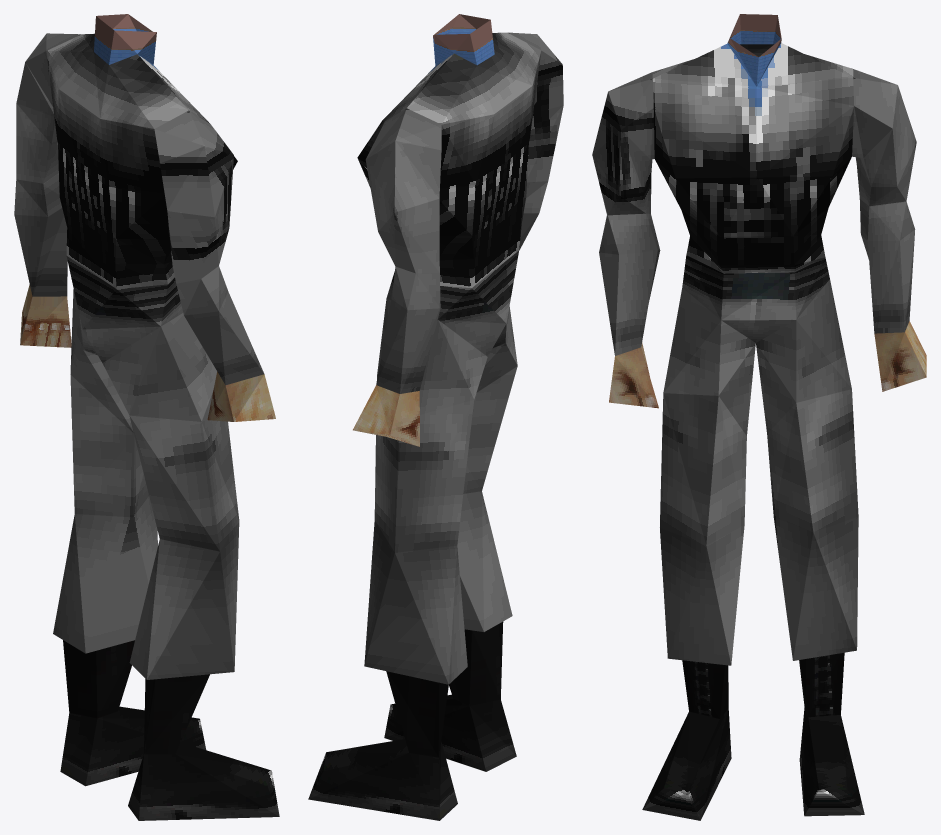
Rendered from train_guard.glb.
3 renders of one model, left to right at view 1: azimuth 30°, elevation 25°; view 2: azimuth 150°, elevation 25°; view 3: azimuth 270°, elevation 25°, orthographic. The views are drawn at different scales.
Visible parts, largest first — view 1: Object; view 2: Object; view 3: Object.
Part boxes in pixels (<box>): Object: <box>14,14,279,820</box>; Object: <box>308,14,563,820</box>; Object: <box>592,14,926,820</box>.
Size of the model in its own units: 0.3904 by 1.83 by 0.7421.
69 materials, 69 textured.
